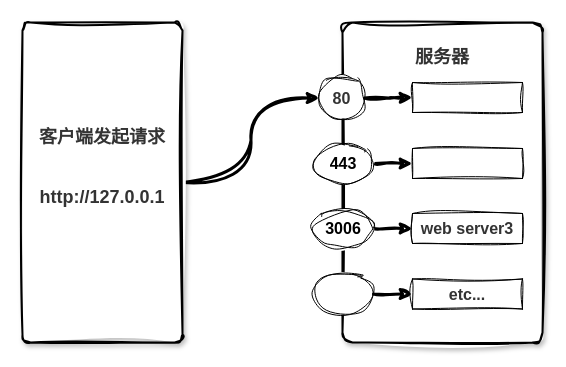
Some shapes in this 566 by 367 pixel diagram are drawn without their labels. The shapes that lost their labels are listed below. From the top down, each one's centre as x and y in pixels, then its label:
At point (467, 97): "web server1".
At point (467, 163): "web server2".
At point (343, 294): "xxx".
